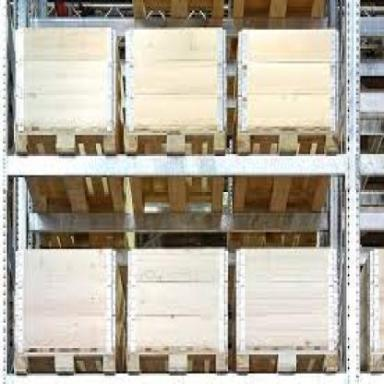pallet: (123, 125, 225, 154), (15, 125, 116, 154), (236, 126, 340, 153), (14, 347, 115, 374), (127, 346, 228, 372), (236, 346, 338, 371)
